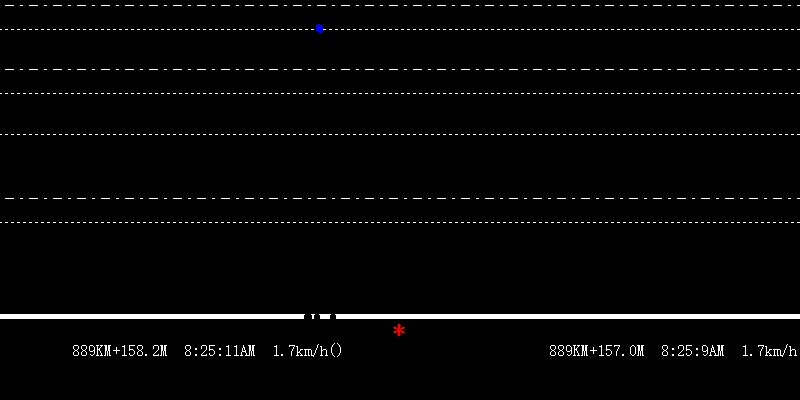face_1: (315, 19, 326, 35)
star: (391, 321, 406, 339)
